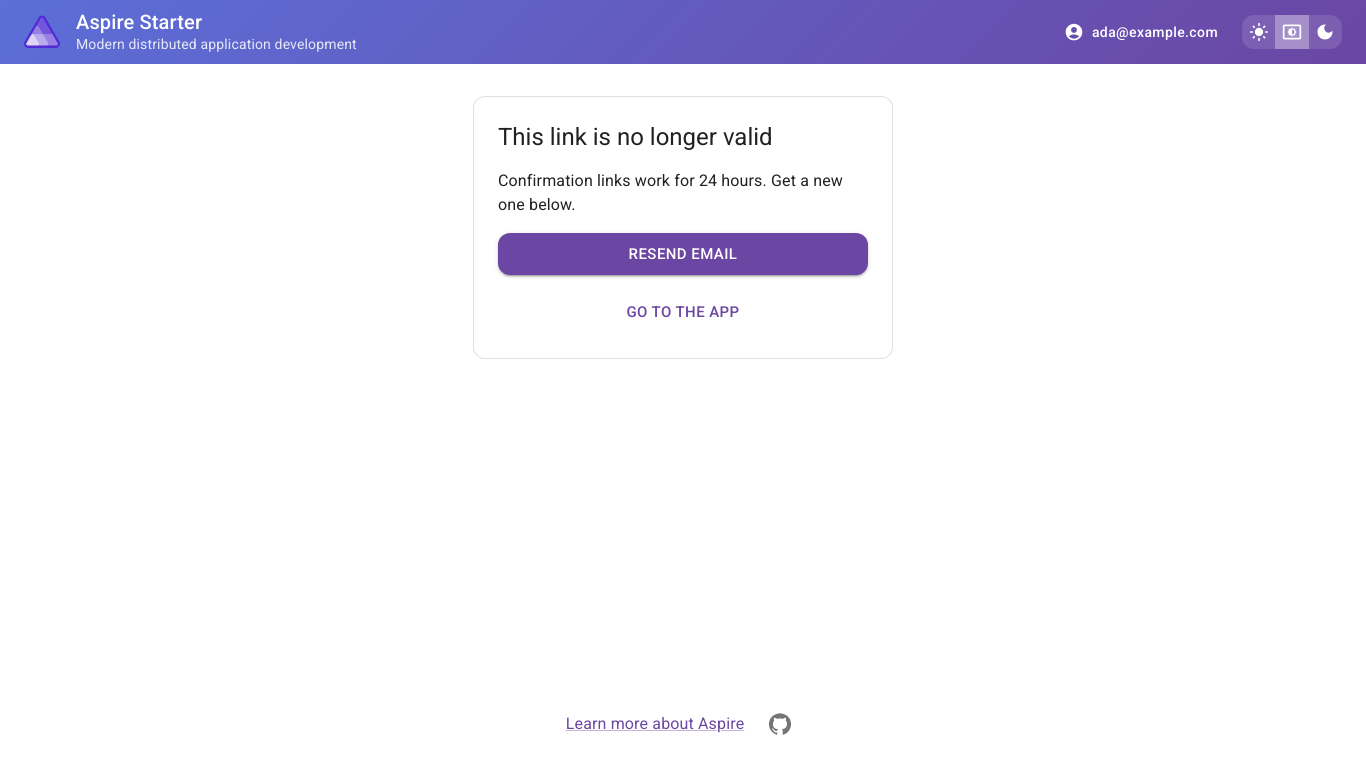
Test: ConfirmEmailPage › lets a signed-in user resend the email from an invalid link
Click the button "Resend email" at (683, 254), box left=498, top=233, right=868, bottom=275
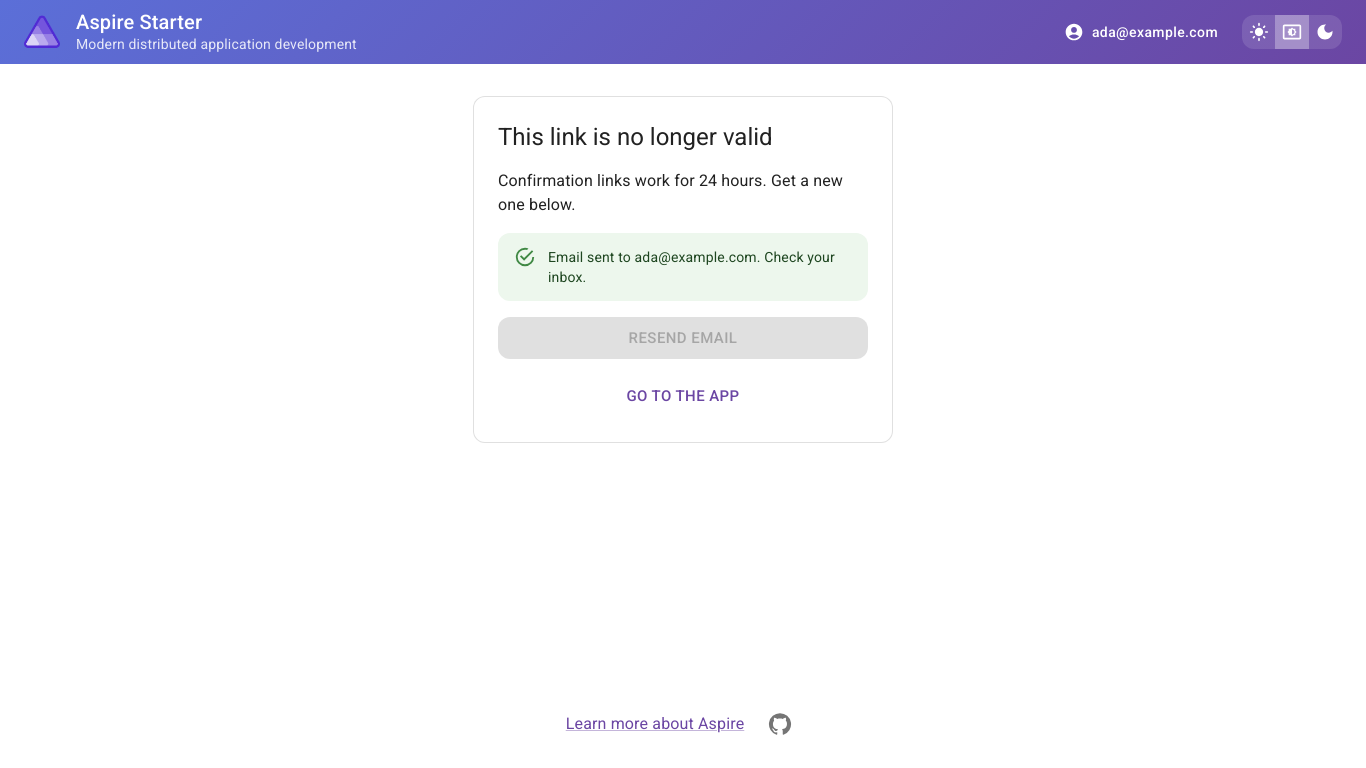
Now the text "Email sent to ada@example.com. Check your inbox." is shown, box left=548, top=239, right=852, bottom=295
